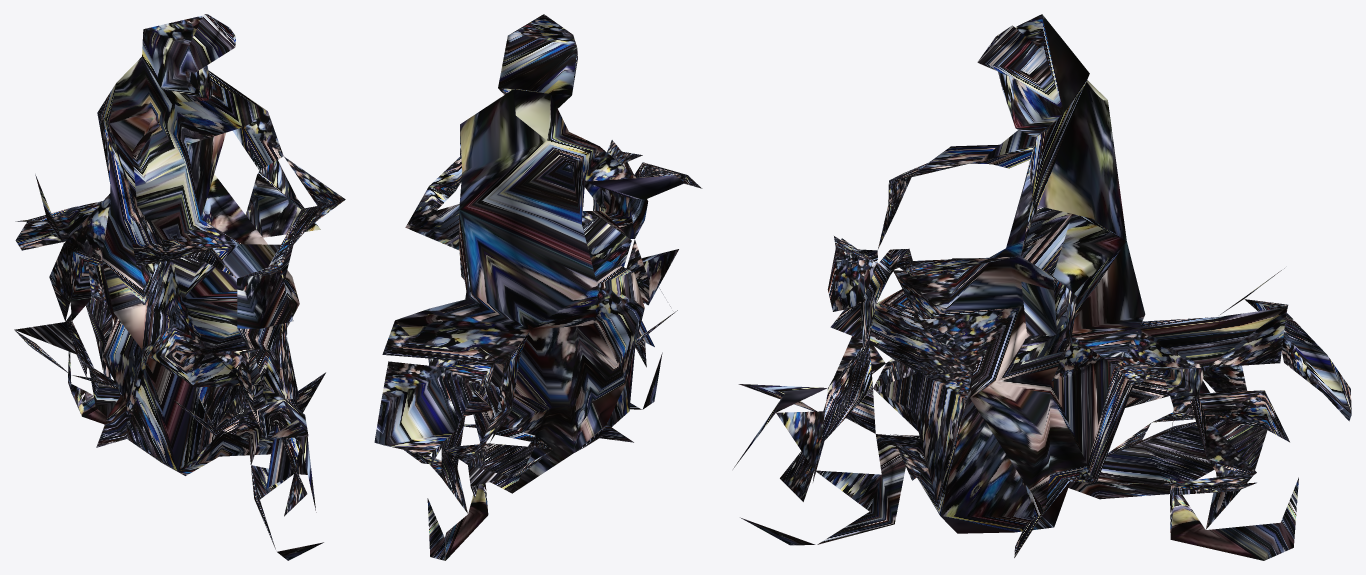
File: moto-loin.glb
3 views of the same model, side by side, from view 1: azimuth 30°, elevation 25°; view 2: azimuth 150°, elevation 25°; view 3: azimuth 270°, elevation 25° (orthographic). The views are drawn at different scales.
Visible parts, largest first — view 1: meshes[0]; view 2: meshes[0]; view 3: meshes[0].
Boxes of the visible parts, box(x1,y1,x2,y2) form: meshes[0]: box(14, 14, 345, 560); meshes[0]: box(374, 14, 702, 560); meshes[0]: box(733, 14, 1351, 560).
Size of the model in its own units: 0.4492 by 0.8842 by 0.9185.
Materials: 1 (1 with a texture image).
